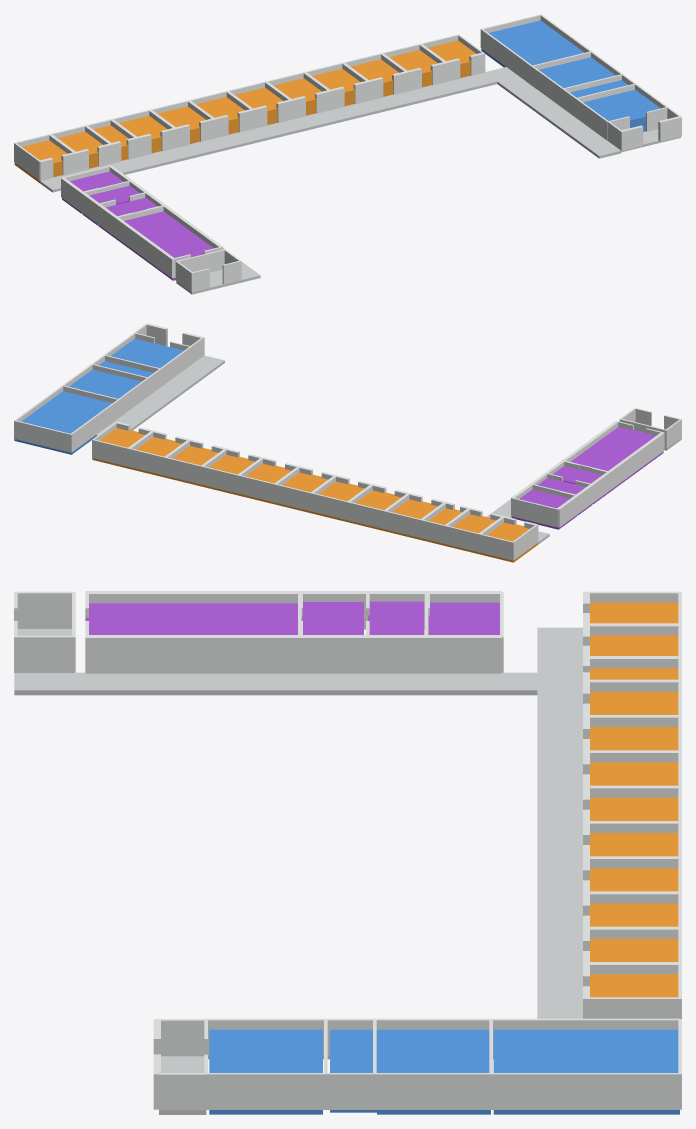
File: level-4.glb
The picture shows the model from 3 angles, top to bottom: view 1: azimuth 30°, elevation 25°; view 2: azimuth 150°, elevation 25°; view 3: azimuth 270°, elevation 25°; orthographic projection. The views are drawn at different scales.
Parts seen in each view (by area): view 1: E corridor.003, C corridor.003, Rifle Range | floor.001, Kitchen 01 | floor.002, Kitchen 01 | floor.001, LearningResource 01 | floor.001, LearningResource 02 | floor.001, Rifle Range | wall W.001, Room 19 | floor.001, Room 23 | floor.001, Room 24 | floor.001, Room 29 | floor.001 (+20 smaller); view 2: Rifle Range | floor.001, C corridor.003, Kitchen 01 | floor.002, Kitchen 01 | floor.001, Rifle Range | wall N.001, LearningResource 02 | floor.001, History / Geo | wall N.001, LearningResource 01 | floor.001, Rifle Range | wall W.001, Room 26 | wall N.001, Room 27 | wall N.001, Room 29 | wall N.001 (+30 smaller); view 3: E corridor.003, F corridor.003, Rifle Range | floor.001, Rifle Range | wall E.001, Kitchen 01 | floor.002, Kitchen 01 | floor.001, History / Geo | wall E.001, LearningResource 01 | wall E.001, LearningResource 02 | wall E.001, Kitchen 01 | wall E.001, LearningResource 01 | floor.001, LearningResource 02 | floor.001 (+46 smaller).
Boxes of the visible parts, bbox=[...] form: E corridor.003: bbox=[40, 67, 518, 192]; C corridor.003: bbox=[497, 76, 621, 158]; Rifle Range | floor.001: bbox=[481, 20, 584, 67]; Kitchen 01 | floor.002: bbox=[583, 89, 660, 131]; Kitchen 01 | floor.001: bbox=[539, 57, 615, 87]; LearningResource 01 | floor.001: bbox=[116, 211, 191, 259]; LearningResource 02 | floor.001: bbox=[144, 232, 213, 280]; Rifle Range | wall W.001: bbox=[481, 29, 526, 80]; Room 19 | floor.001: bbox=[14, 140, 67, 182]; Room 23 | floor.001: bbox=[196, 97, 244, 134]; Room 24 | floor.001: bbox=[235, 87, 282, 124]; Room 29 | floor.001: bbox=[428, 40, 476, 77]; Rifle Range | floor.001: bbox=[14, 391, 111, 454]; C corridor.003: bbox=[108, 355, 224, 430]; Kitchen 01 | floor.002: bbox=[111, 338, 183, 367]; Kitchen 01 | floor.001: bbox=[69, 369, 141, 398]; Rifle Range | wall N.001: bbox=[14, 420, 71, 452]; LearningResource 02 | floor.001: bbox=[592, 427, 663, 472]; History / Geo | wall N.001: bbox=[511, 498, 558, 527]; LearningResource 01 | floor.001: bbox=[571, 446, 636, 491]; Rifle Range | wall W.001: bbox=[71, 403, 113, 451]; Room 26 | wall N.001: bbox=[201, 466, 238, 493]; Room 27 | wall N.001: bbox=[165, 457, 201, 484]; Room 29 | wall N.001: bbox=[92, 439, 129, 466]; E corridor.003: bbox=[537, 627, 582, 1018]; F corridor.003: bbox=[14, 672, 537, 695]; Rifle Range | floor.001: bbox=[493, 1029, 679, 1114]; Rifle Range | wall E.001: bbox=[513, 1073, 679, 1109]; Kitchen 01 | floor.002: bbox=[209, 1029, 322, 1114]; Kitchen 01 | floor.001: bbox=[377, 1029, 490, 1114]; History / Geo | wall E.001: bbox=[383, 635, 501, 673]; LearningResource 01 | wall E.001: bbox=[192, 635, 299, 673]; LearningResource 02 | wall E.001: bbox=[85, 635, 192, 673]; Kitchen 01 | wall E.001: bbox=[371, 1073, 465, 1109]; LearningResource 01 | floor.001: bbox=[192, 603, 297, 634]; LearningResource 02 | floor.001: bbox=[85, 603, 192, 634].
Size of the model in its own units: 96.27 by 3.75 by 56.2.
